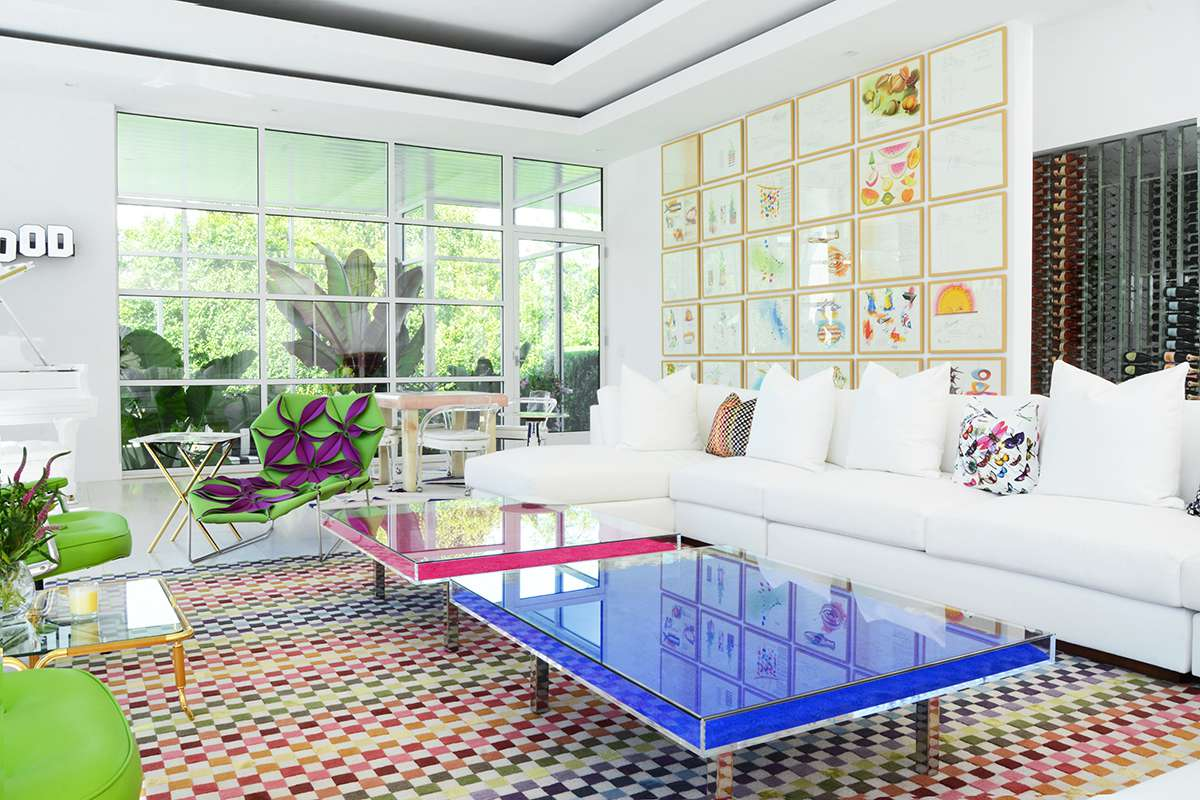hijau: (1, 670, 142, 800), (47, 509, 134, 562)
putih: (784, 492, 1192, 610), (1037, 361, 1199, 517), (1035, 359, 1197, 515), (466, 447, 714, 512), (848, 365, 947, 480), (744, 371, 831, 466), (625, 375, 701, 449)
